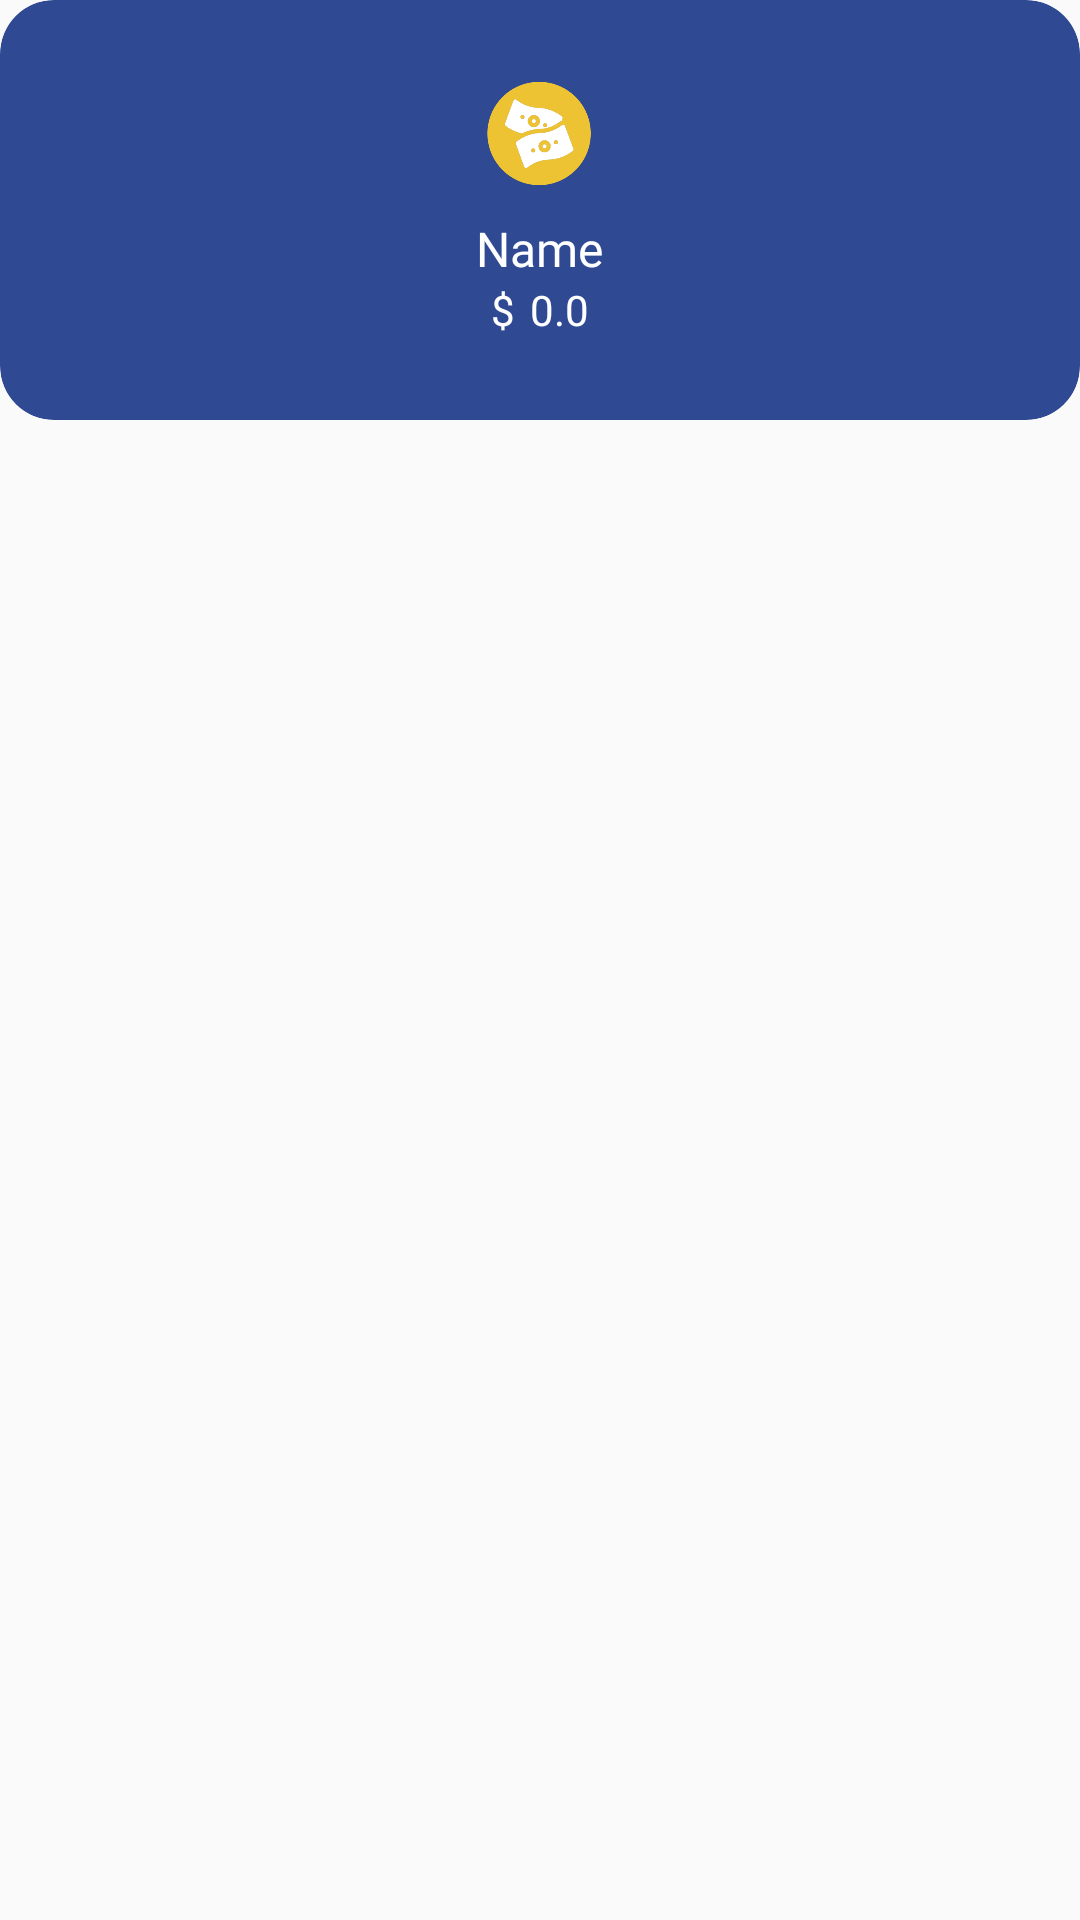

Icons on this 1080×1920 Android screen, each with the point to tap as (x=x, y=y):
money: (x=539, y=133)
